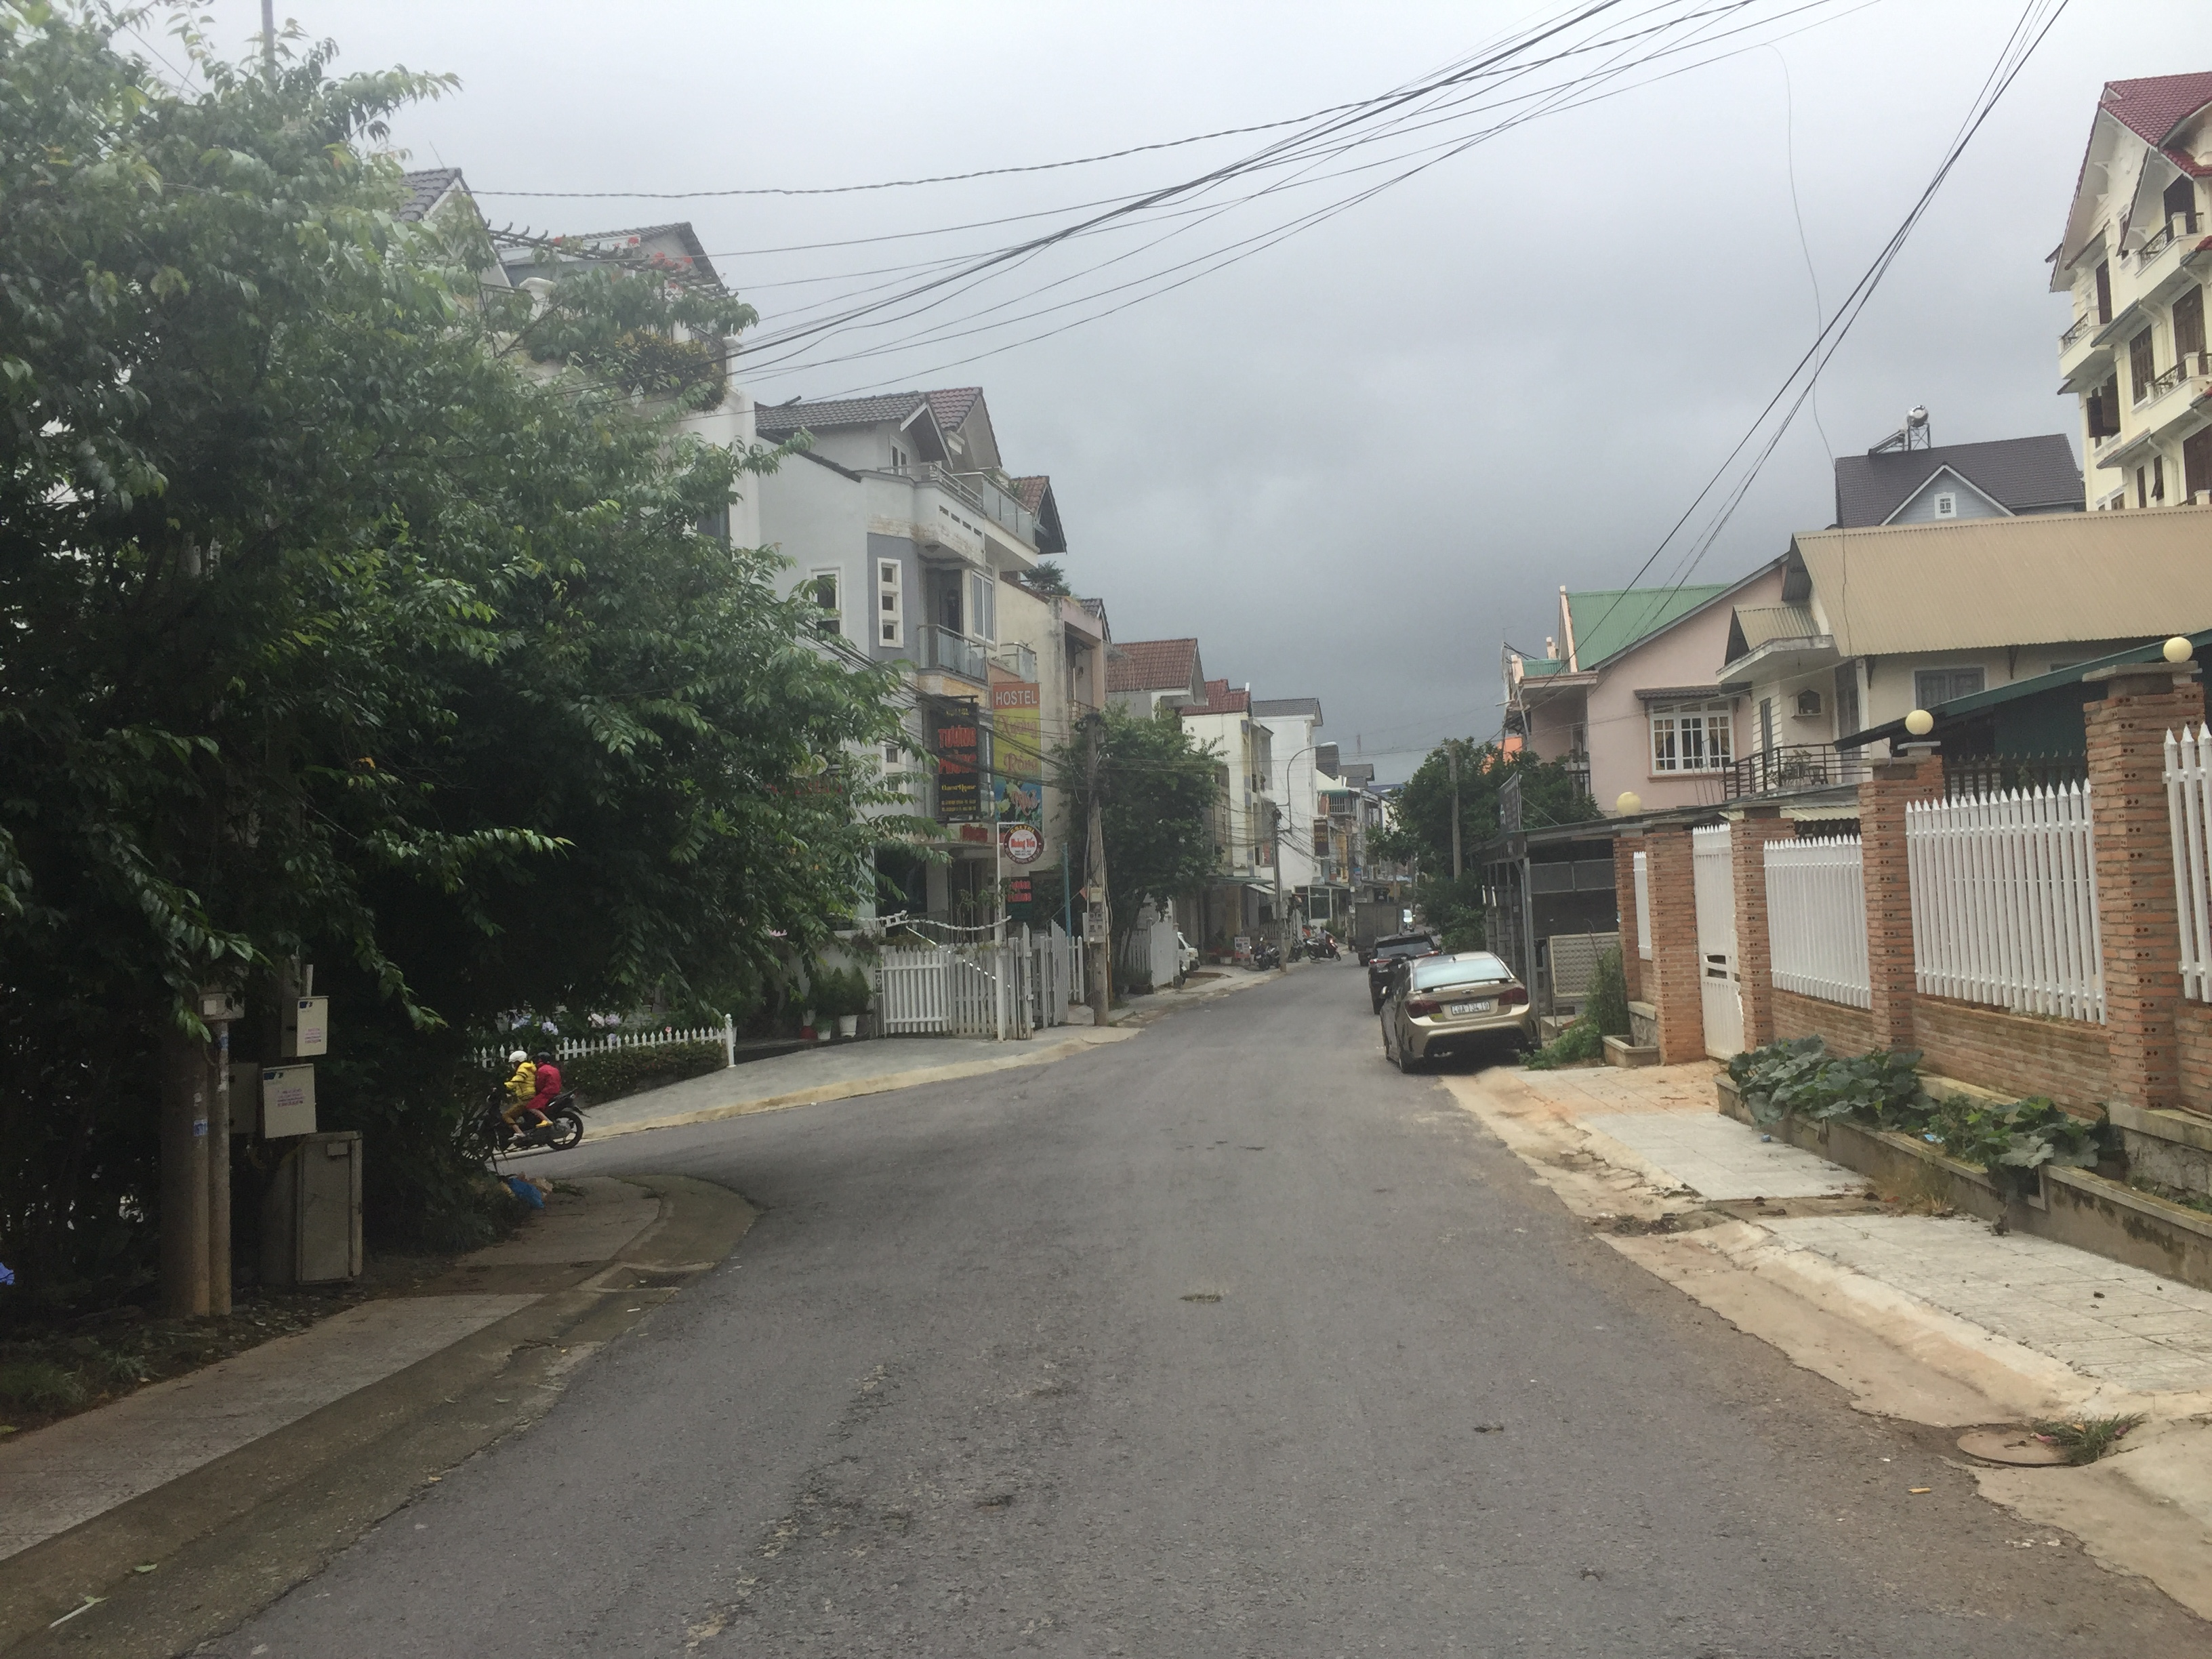hole: (972, 1492, 1019, 1509), (874, 1513, 914, 1532), (1176, 1293, 1224, 1305), (1470, 1422, 1503, 1434), (1240, 1145, 1264, 1150), (1371, 1187, 1392, 1192), (1214, 1140, 1228, 1143), (1160, 1127, 1174, 1131), (1205, 1145, 1216, 1148), (1176, 1147, 1186, 1150), (1197, 1119, 1207, 1122), (1179, 1121, 1188, 1124), (1186, 1145, 1195, 1147)
